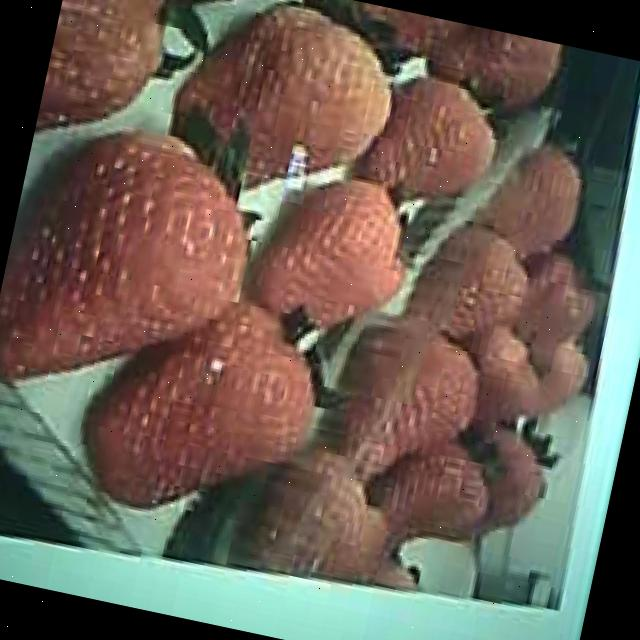strawberry: (0, 111, 264, 424), (80, 288, 328, 538), (170, 0, 399, 216), (249, 162, 422, 343), (368, 70, 504, 214)
